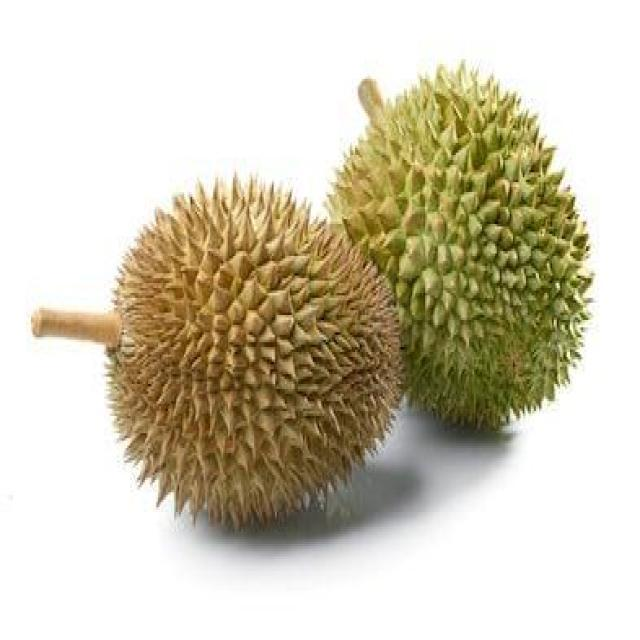mature: (109, 178, 402, 526)
